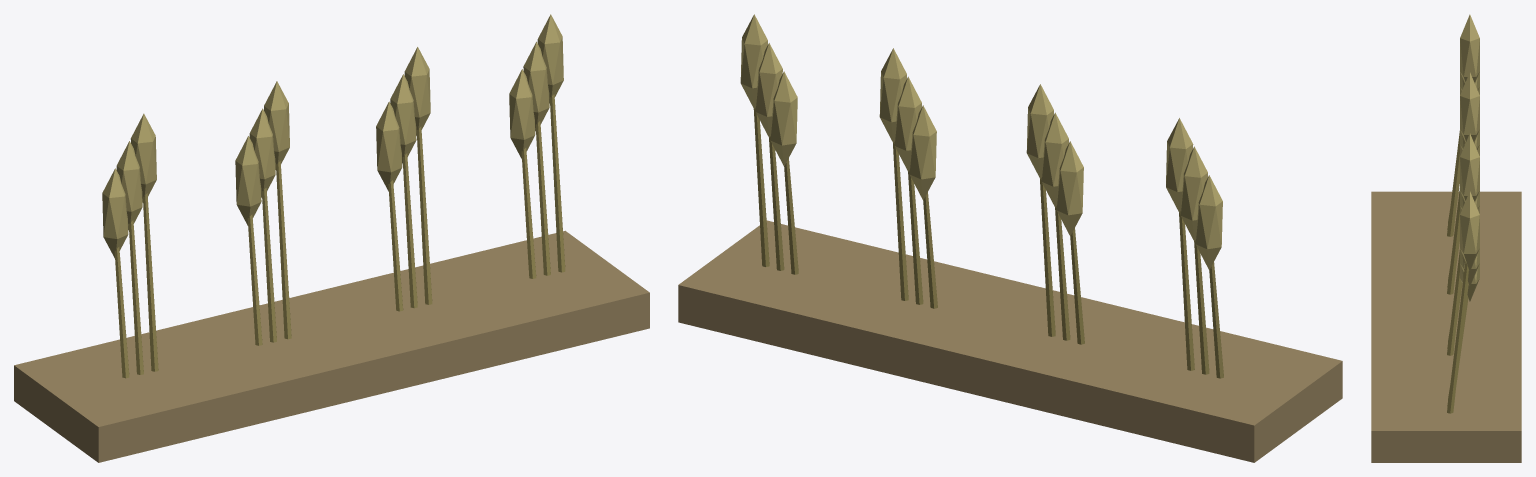
File: map-exclusive-v3__farm_16.glb
The picture shows the model from 3 angles, left to right: view 1: azimuth 30°, elevation 25°; view 2: azimuth 150°, elevation 25°; view 3: azimuth 270°, elevation 25°; orthographic projection. The views are drawn at different scales.
Visible parts, largest first — view 1: farm_16; view 2: farm_16; view 3: farm_16.
Part boxes in pixels (x1=…): farm_16: x1=14, y1=14, x2=649, y2=462; farm_16: x1=678, y1=14, x2=1342, y2=462; farm_16: x1=1371, y1=14, x2=1521, y2=462.
Size of the model in its own units: 2.9 by 1.43 by 0.77.
